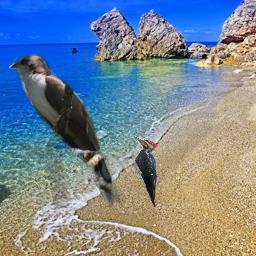Cuckoo: (9, 54, 126, 208)
Woodpecker: (131, 135, 158, 207)
